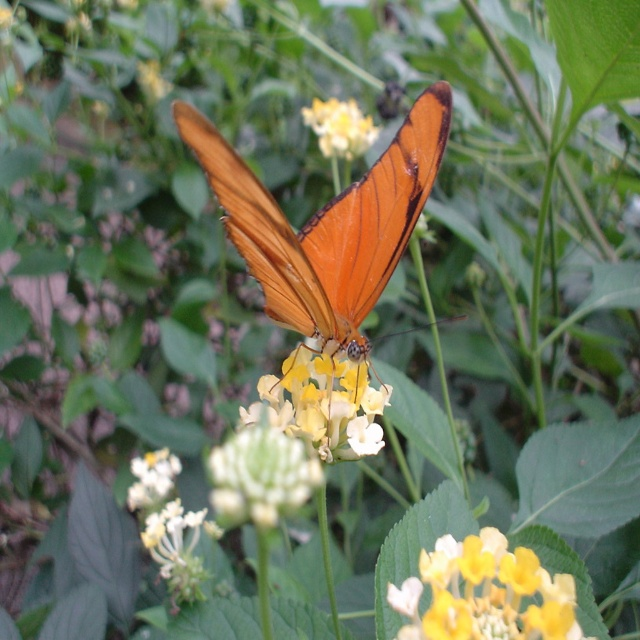Butterfly: (172, 81, 468, 448)
